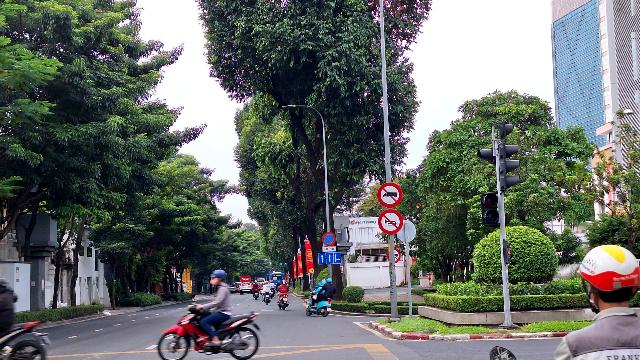cam-bop-coi: (378, 209, 404, 235)
cam-do-xe: (322, 232, 336, 246)
